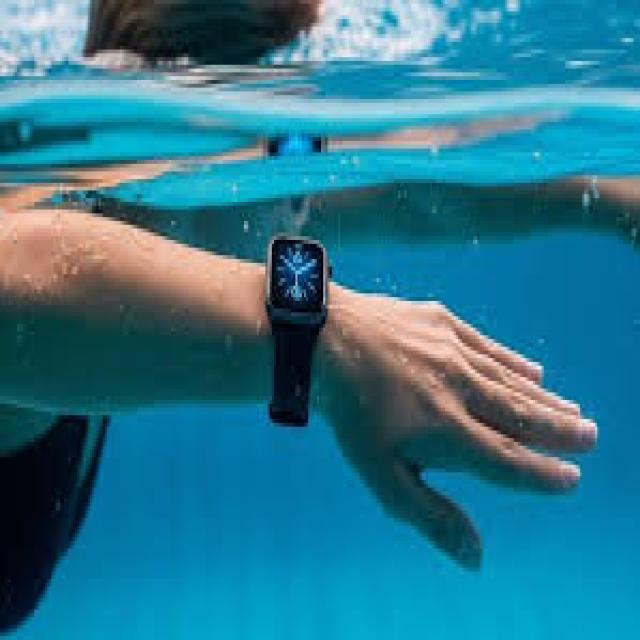objects: (260, 225, 331, 431)
